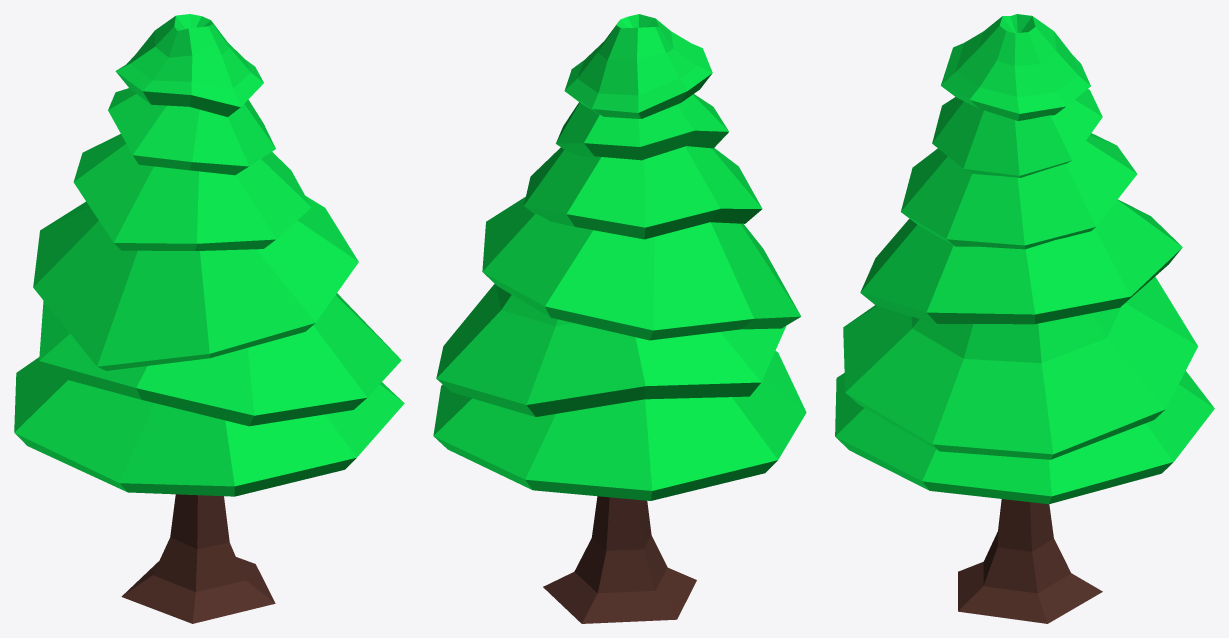
The model's file is tree_test_2.fbx.
The picture shows the model from 3 angles, left to right: view 1: azimuth 30°, elevation 25°; view 2: azimuth 150°, elevation 25°; view 3: azimuth 270°, elevation 25°; orthographic projection.
Visible parts, largest first — view 1: Tree_Bottom2; view 2: Tree_Bottom2; view 3: Tree_Bottom2.
Part boxes in pixels (x1,y1,x2,y2): Tree_Bottom2: (14, 14, 404, 623); Tree_Bottom2: (433, 14, 806, 623); Tree_Bottom2: (835, 14, 1214, 623).
Size of the model in its own units: 173 by 282 by 171.
